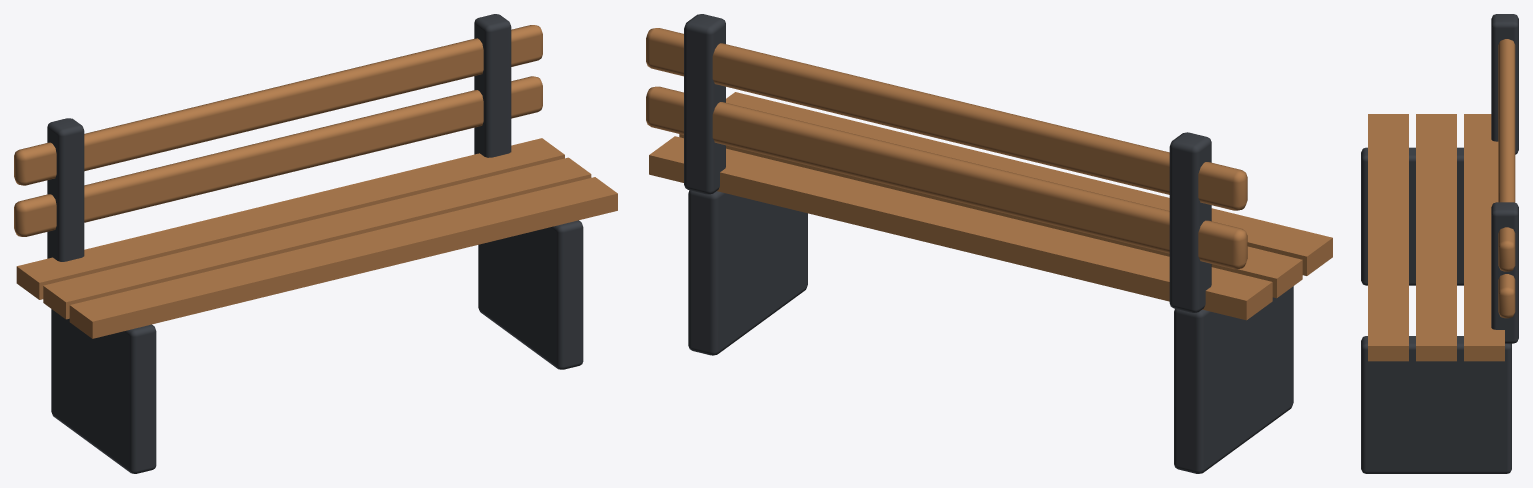
Rendered from bench.glb.
3 views of the same model, side by side, from view 1: azimuth 30°, elevation 25°; view 2: azimuth 150°, elevation 25°; view 3: azimuth 270°, elevation 25° (orthographic). The views are drawn at different scales.
Parts seen in each view (by area): view 1: bench; view 2: bench; view 3: bench.
Boxes of the visible parts, x1,y1,x2,y2 form: bench: (14, 14, 617, 473); bench: (646, 14, 1332, 473); bench: (1361, 14, 1518, 473).
Size of the model in its own units: 1.6 by 0.85 by 0.46.
